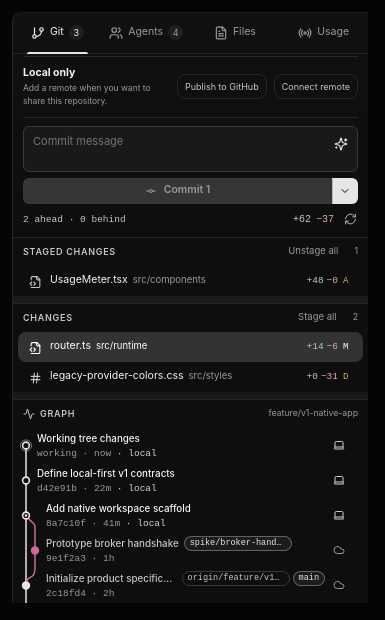
Test case: RightRail › surfaces local-only publishing and keeps remote management in the Git menu
Expected: the text "Local only" is shown, x1=23 y1=66 x2=75 y2=79
Expected: the button "Publish to GitHub" is shown, x1=177 y1=74 x2=267 y2=99
Click the button named "More Git actions". click: (345,191)
box: x1=332 y1=178 x2=358 y2=204
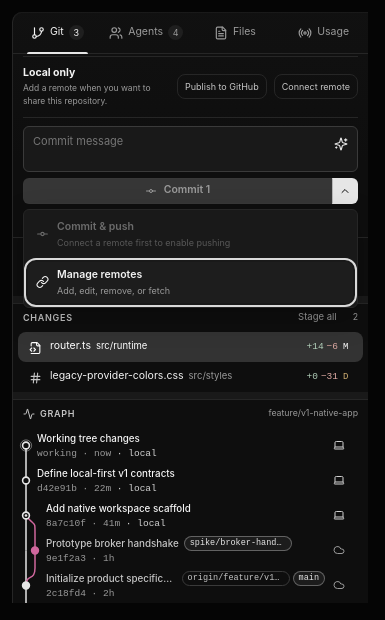
Result: the menu item "Manage remotes Add, edit, remove, or fetch" is shown at x1=28 y1=262 x2=353 y2=303
Result: the menu item "Commit & push Connect a remote first to enable pushing" is disabled at x1=28 y1=214 x2=353 y2=255
Result: the menu item "Commit & push Connect a remote first to enable pushing" is shown at x1=28 y1=214 x2=353 y2=255
